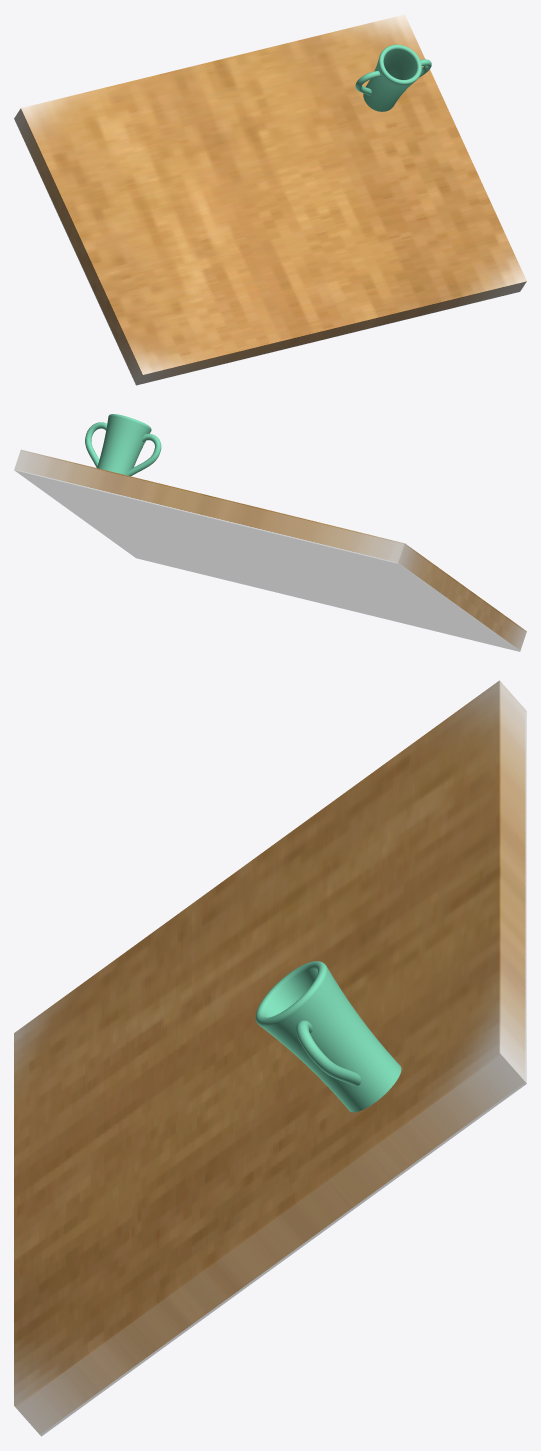
File: Holz.glb
The picture shows the model from 3 angles, top to bottom: view 1: azimuth 30°, elevation 25°; view 2: azimuth 150°, elevation 25°; view 3: azimuth 270°, elevation 25°; orthographic projection. The views are drawn at different scales.
Visible parts, largest first — view 1: node_id5, node_id35; view 2: node_id5, node_id35; view 3: node_id5, node_id35.
Boxes of the visible parts, box(x1,y1,x2,y2) form: node_id5: box(14, 14, 526, 385); node_id35: box(355, 44, 431, 111); node_id5: box(14, 449, 526, 651); node_id35: box(85, 414, 161, 476); node_id5: box(14, 680, 526, 1436); node_id35: box(255, 961, 401, 1112).
Size of the model in its own units: 0.512 by 0.2655 by 0.2979.
2 materials, 2 textured.
